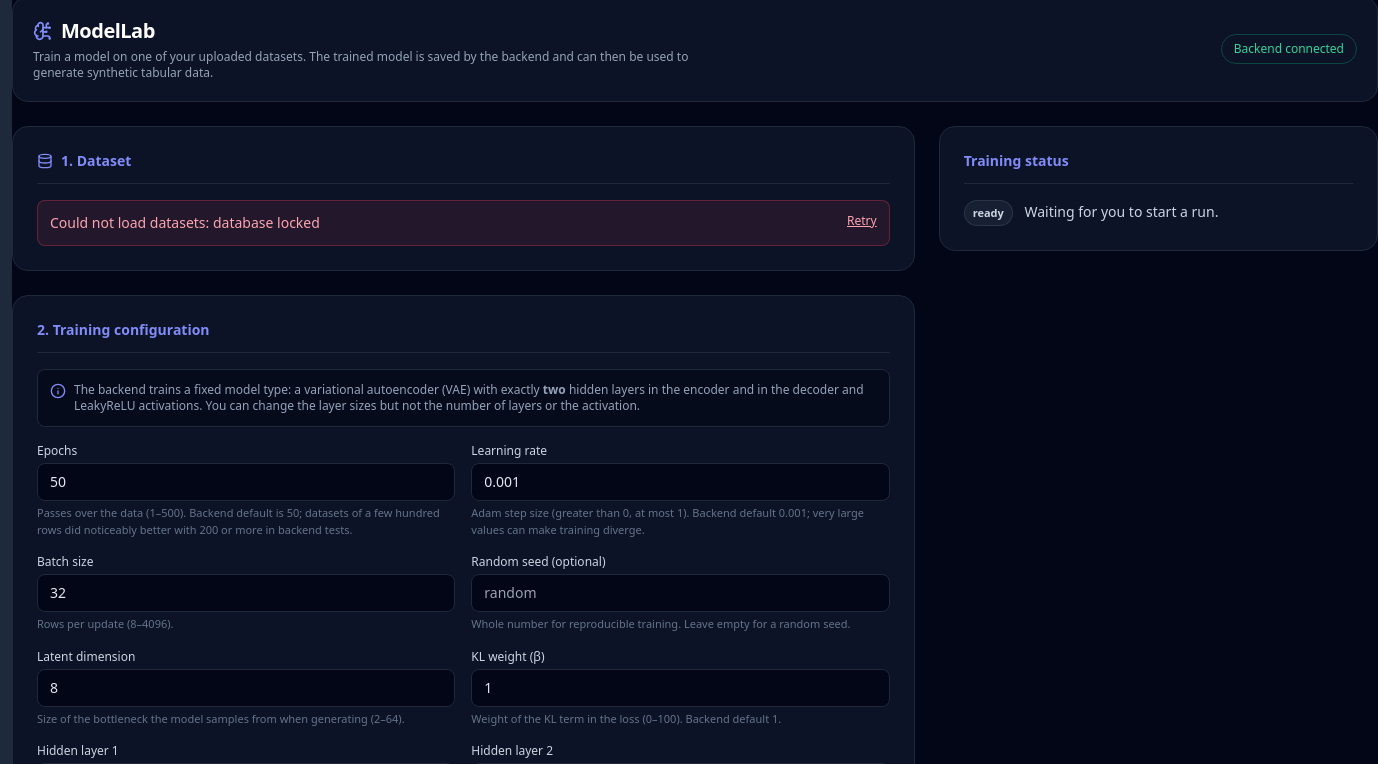
Test: ModelLab: datasets › shows API errors and lets the user retry
expect the message "Could not load datasets: database locked Retry" is shown: met, box [37, 200, 890, 246]
What coordinates should you click on to do the following:
click the button "Retry"
I would click on:
 (862, 221)
Its box is [847, 213, 877, 229].
(page scrolled)
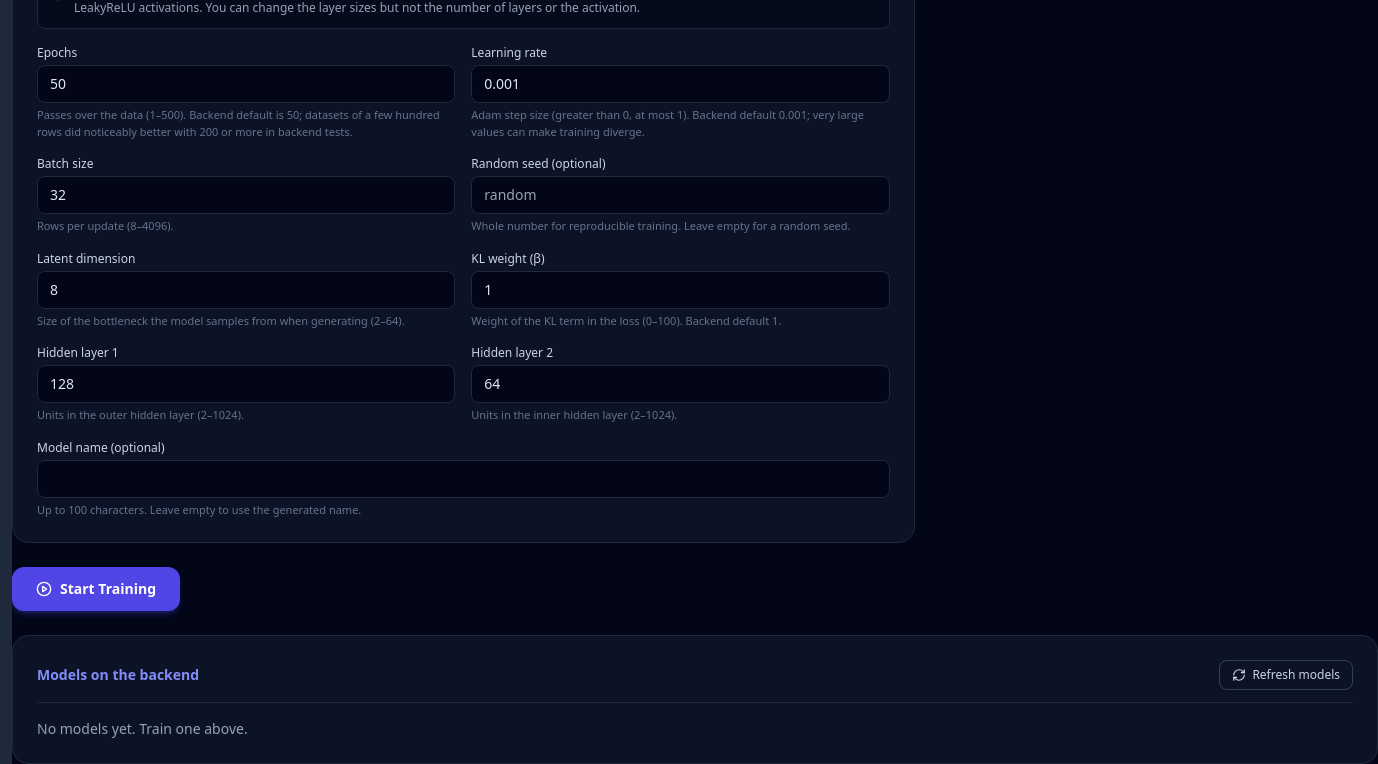
expect the button "Start Training" is enabled: met, box [12, 567, 180, 611]
